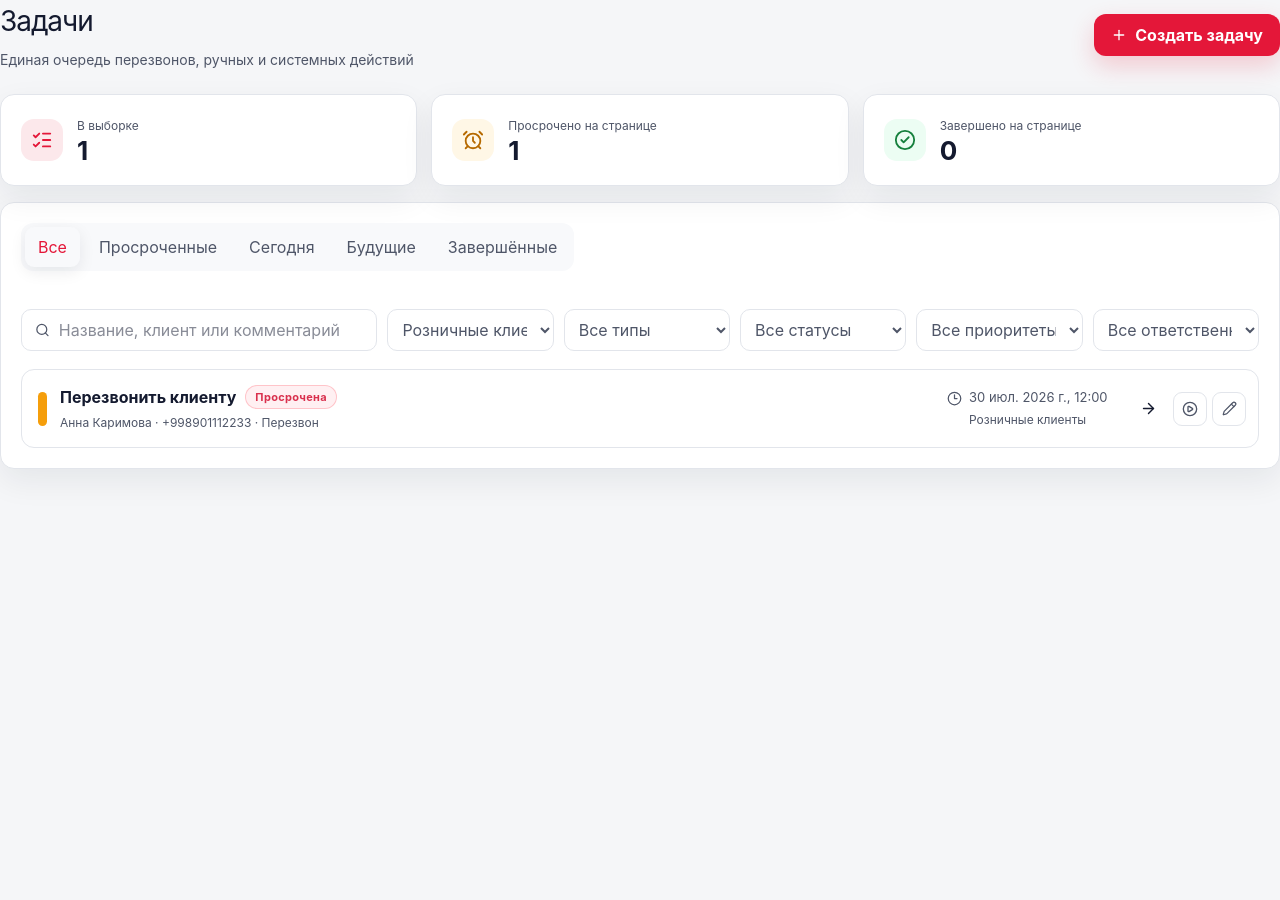
Test: unified tasks workspace › opens details with immutable event history
This screenshot has width=1280, height=900.
Step 1. Click the text "Перезвонить клиенту" → click(148, 397), box [60,385,236,409]
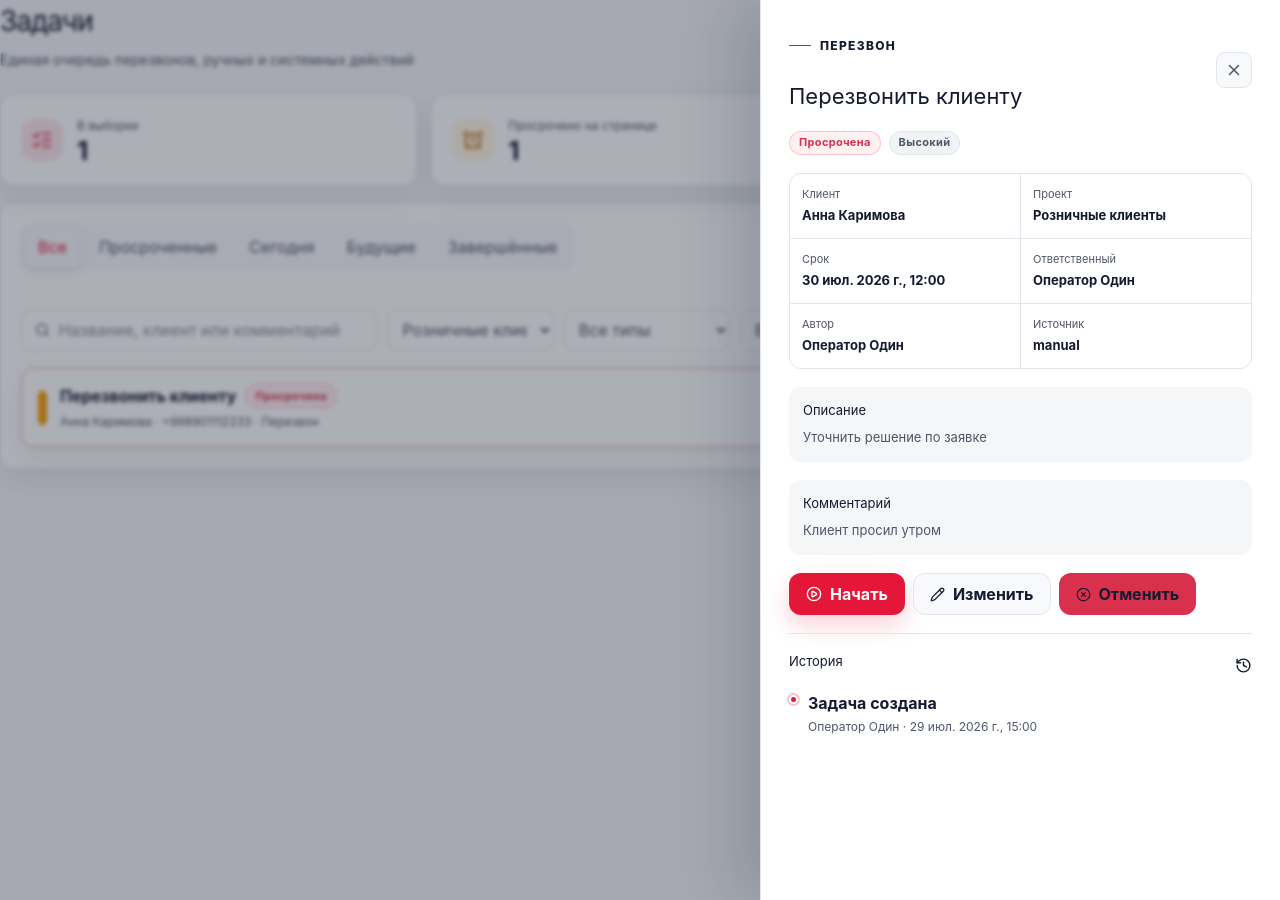
Expected: the dialog named "Карточка задачи" is shown
Expected: the text "Задача создана" is shown, [808,693,937,713]
Expected: the text "Уточнить решение по заявке" is shown, [803,429,987,445]
